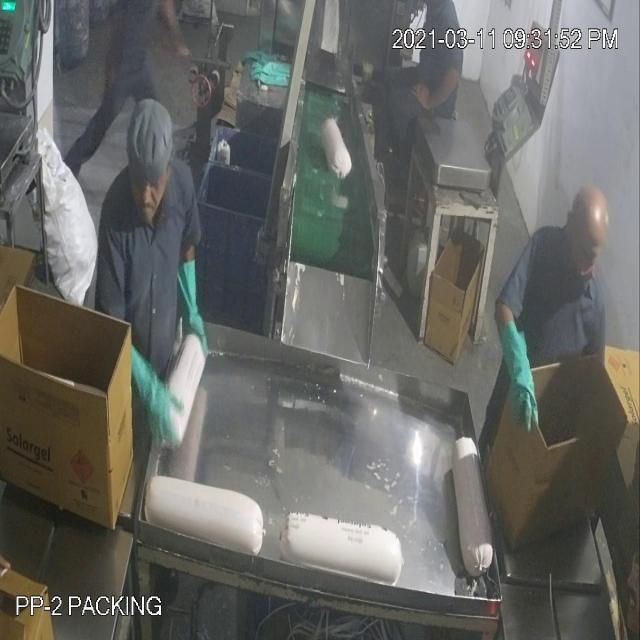Gloves: (36, 36, 519, 376)
